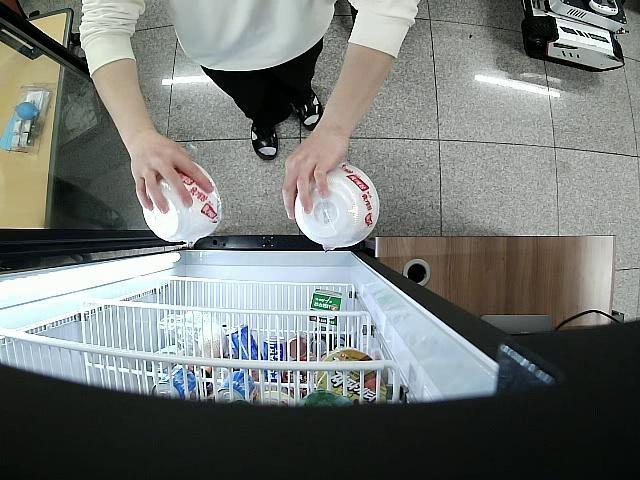09_yukGaeJang: (294, 162, 380, 250), (142, 160, 222, 243)
